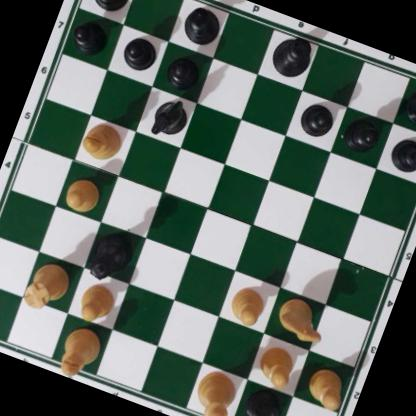black-bishop: (176, 1, 227, 50), (236, 384, 291, 416)
black-king: (265, 28, 318, 82)
black-knight: (146, 92, 194, 144)
black-pawn: (296, 96, 339, 140), (342, 112, 384, 155), (69, 14, 111, 56), (118, 31, 159, 74), (163, 49, 204, 92), (387, 131, 416, 178)
black-queen: (84, 224, 141, 291)
black-rook: (77, 0, 137, 16), (402, 79, 416, 134)
white-bishop: (53, 322, 106, 383), (78, 117, 126, 165)
white-king: (183, 366, 244, 416)
white-knight: (271, 292, 333, 348)
white-pawn: (252, 341, 301, 392), (302, 363, 350, 410), (74, 278, 119, 328), (225, 281, 271, 329), (60, 172, 105, 216)
white-rook: (20, 254, 75, 317)
